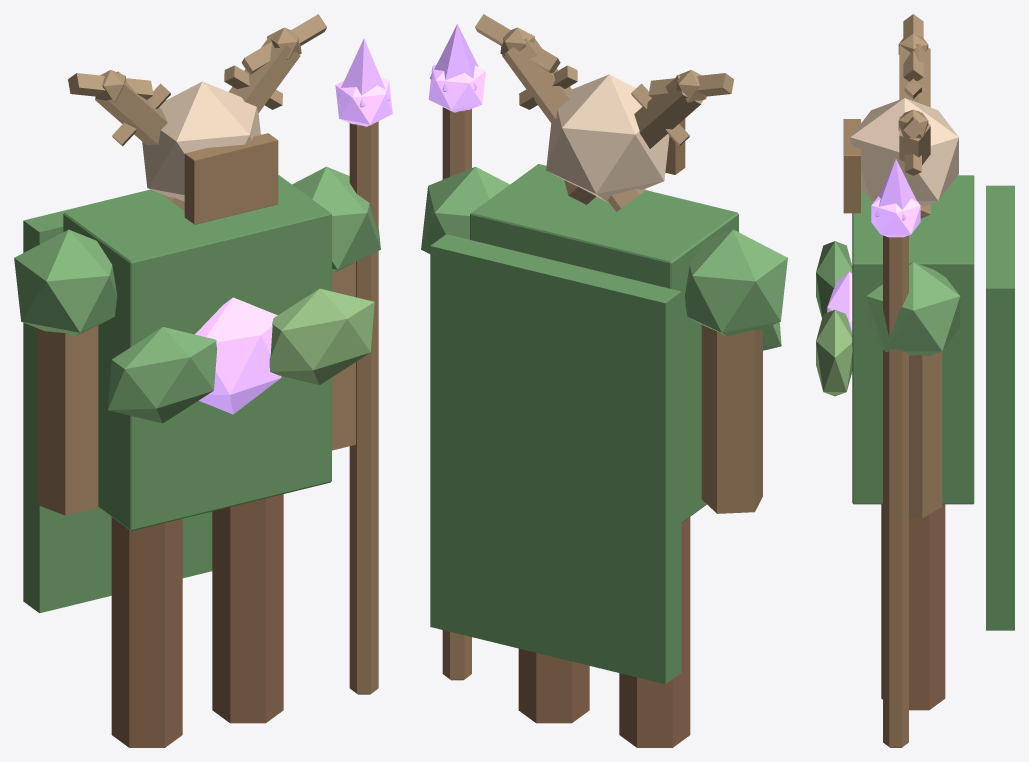
Rendered from npc_forest_warden.glb.
The picture shows the model from 3 angles, left to right: view 1: azimuth 30°, elevation 25°; view 2: azimuth 150°, elevation 25°; view 3: azimuth 270°, elevation 25°; orthographic projection. The views are drawn at different scales.
Parts seen in each view (by area): view 1: leg_0.002; view 2: leg_0.002; view 3: leg_0.002.
Part boxes in pixels (x1=…): leg_0.002: x1=14, y1=14, x2=392, y2=747; leg_0.002: x1=421, y1=14, x2=787, y2=747; leg_0.002: x1=816, y1=14, x2=1014, y2=747.
Size of the model in its own units: 1.28 by 2.32 by 0.6855.
